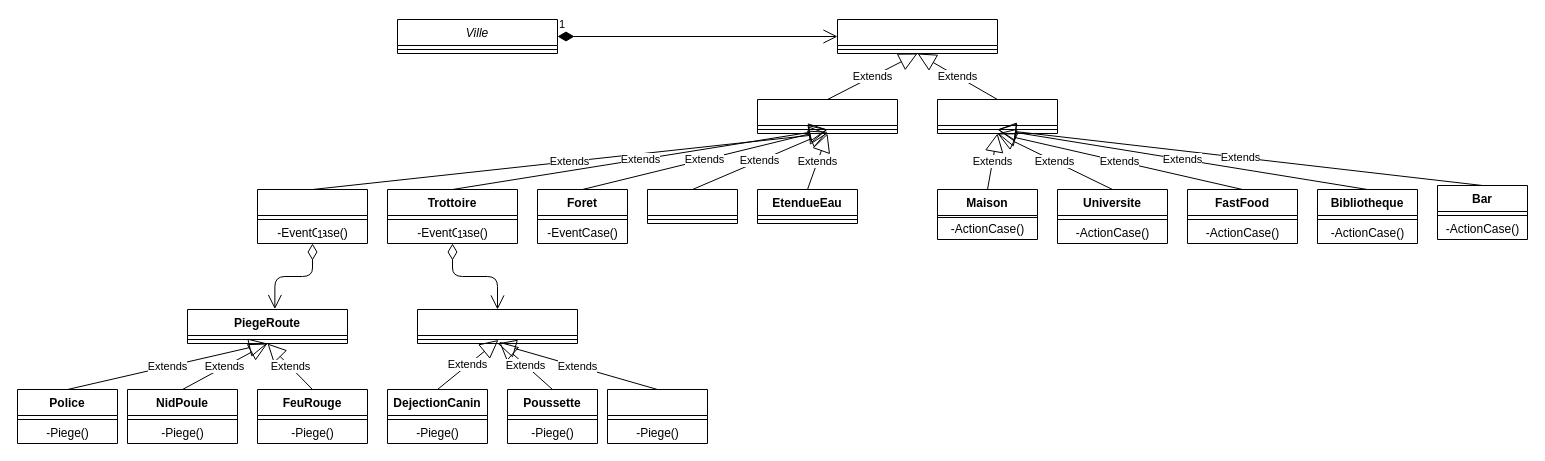
Some shapes in this 1545 by 461 pixel diagram are drawn without their labels. The box of each missing label's shape, as (x1, y1, x2, y2) in pixels:
Batiment: (936, 98, 1058, 134)
Case: (836, 18, 998, 54)
Case non Batiment: (756, 98, 898, 134)
CaseGrise: (646, 188, 738, 224)
PeauBanane: (606, 388, 708, 444)
PiegeTrottoire: (416, 308, 578, 344)
Route: (256, 188, 368, 244)
